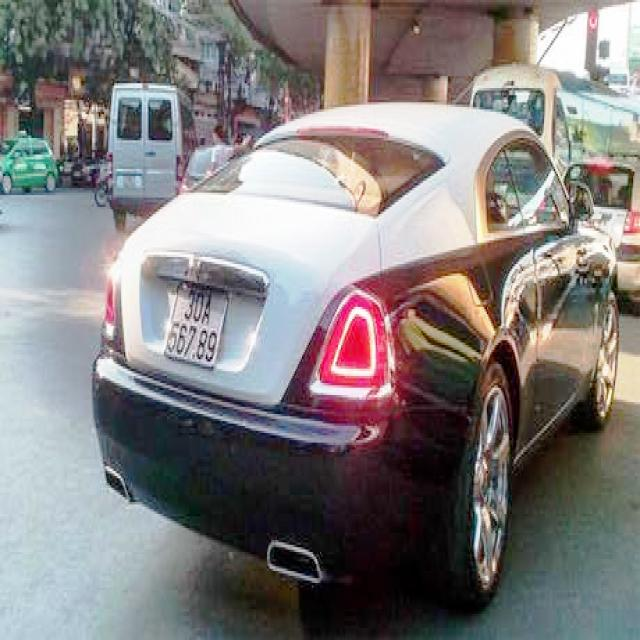license_plate: (165, 286, 229, 368)
